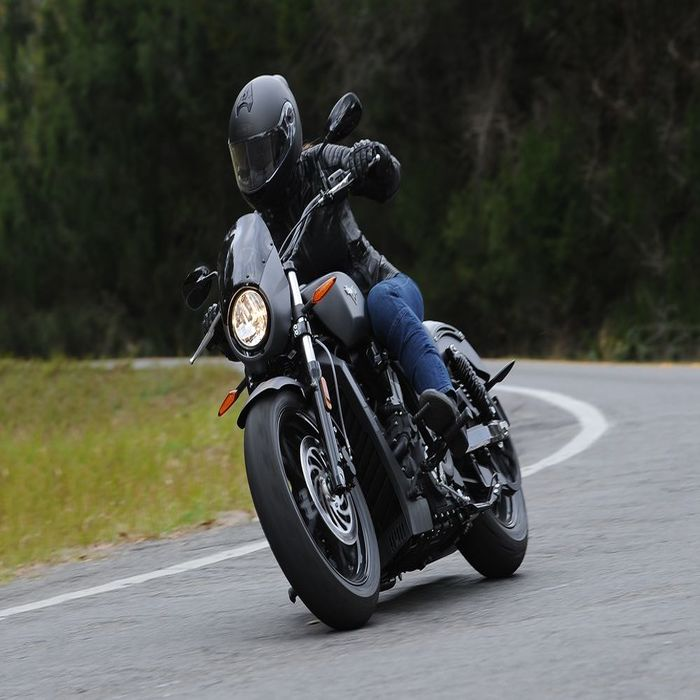h: (223, 67, 309, 221)
